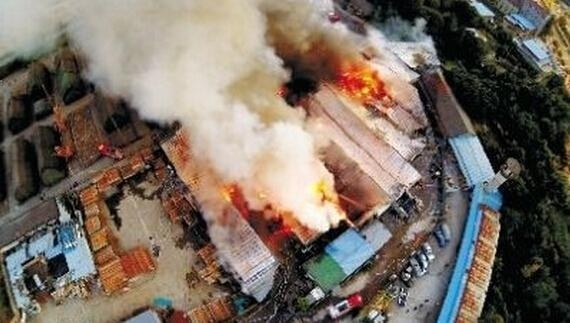fire: (342, 65, 377, 95)
